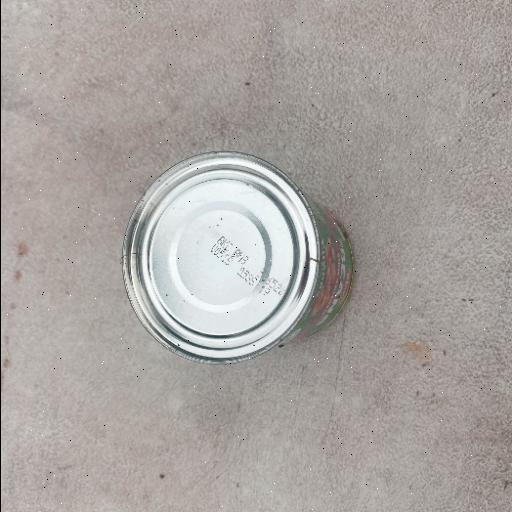Metal: (120, 148, 356, 366)
